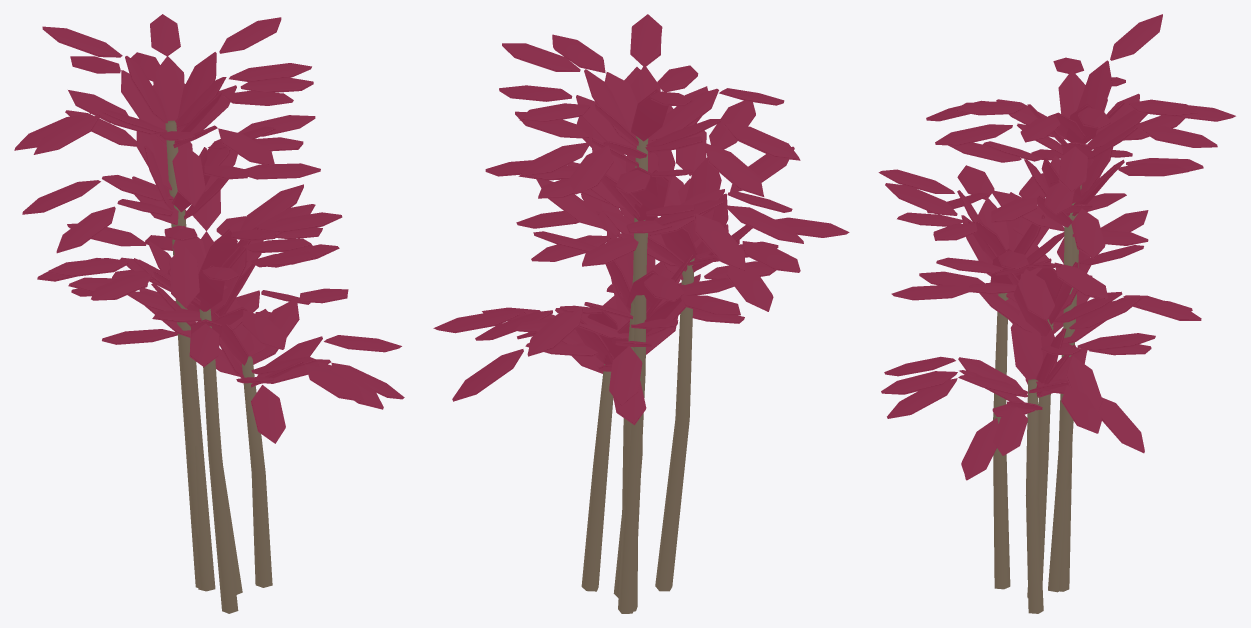
Rendered from Blender_TiPlant_1.glb.
3 views of the same model, side by side, from view 1: azimuth 30°, elevation 25°; view 2: azimuth 150°, elevation 25°; view 3: azimuth 270°, elevation 25° (orthographic). The views are drawn at different scales.
Parts seen in each view (by area): view 1: Blender_TiPlant_1; view 2: Blender_TiPlant_1; view 3: Blender_TiPlant_1.
Part boxes in pixels (x1,y1,x2,y2): Blender_TiPlant_1: (14,14,404,613); Blender_TiPlant_1: (433,14,849,613); Blender_TiPlant_1: (878,14,1235,613).
Size of the model in its own units: 1.34 by 2.09 by 1.29.
